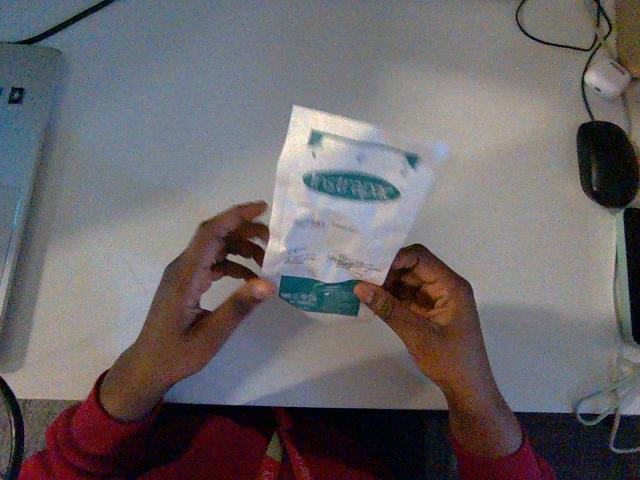gallipot: (263, 106, 443, 319)
